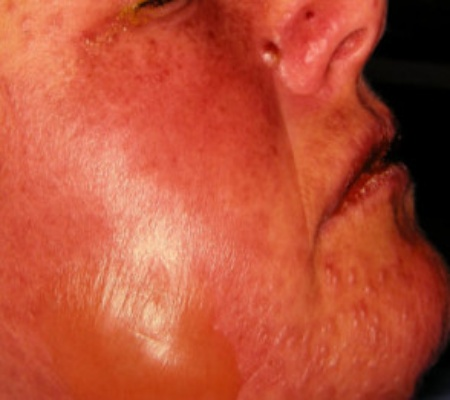SJS-TEN: (0, 0, 431, 399)
